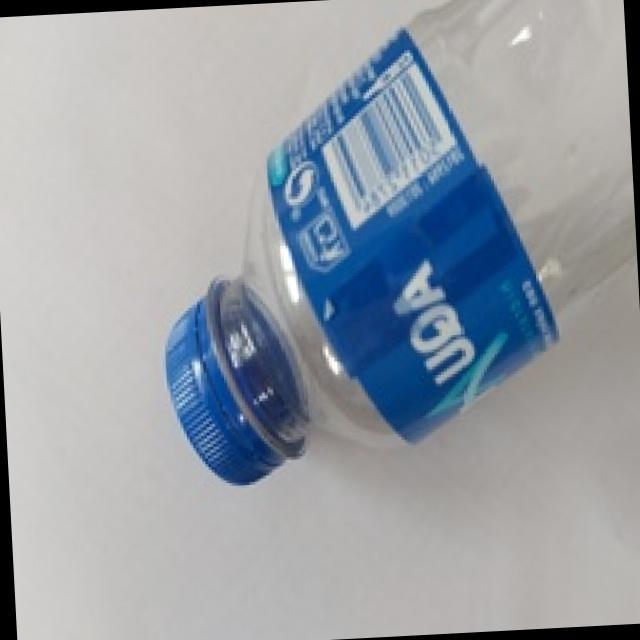good: (140, 0, 640, 488)
